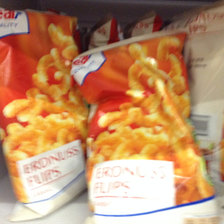chips: (72, 32, 214, 224), (1, 7, 89, 220)
